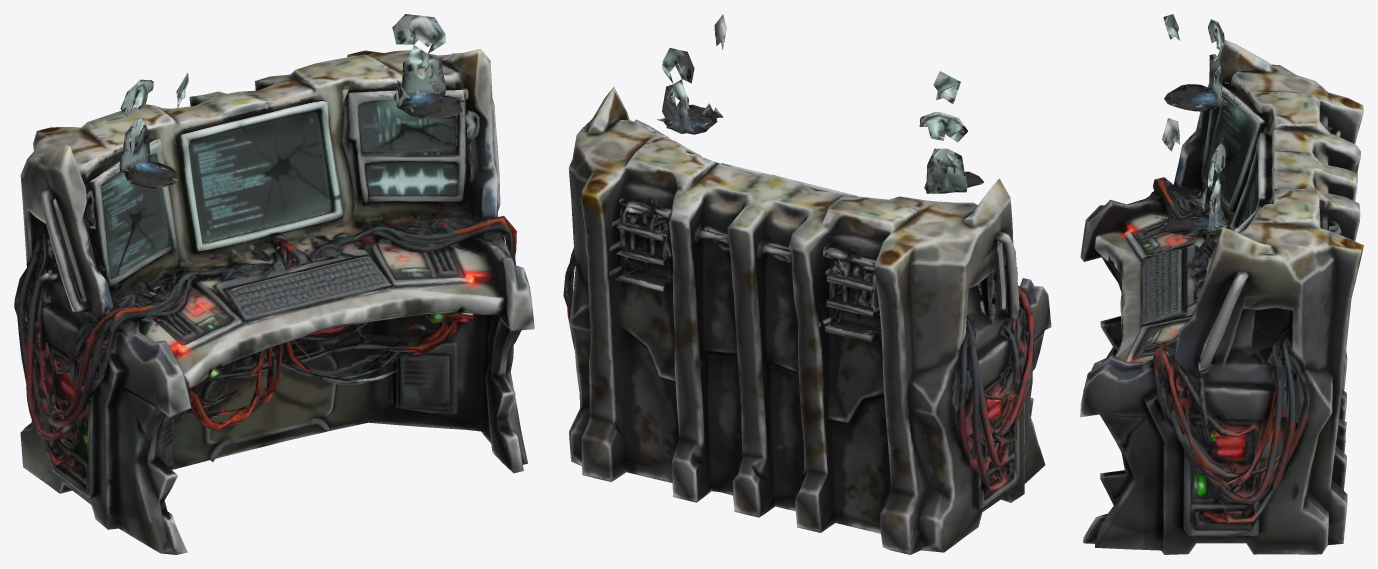
File: Hacking-Station.glb
The picture shows the model from 3 angles, left to right: view 1: azimuth 30°, elevation 25°; view 2: azimuth 150°, elevation 25°; view 3: azimuth 270°, elevation 25°; orthographic projection. The views are drawn at different scales.
Parts seen in each view (by area): view 1: Mesh1.0; view 2: Mesh1.0; view 3: Mesh1.0.
Part boxes in pixels (left/top/right/bottom): Mesh1.0: left=14, top=14, right=534, bottom=554; Mesh1.0: left=563, top=14, right=1051, bottom=554; Mesh1.0: left=1080, top=14, right=1363, bottom=554.
Size of the model in its own units: 1.91 by 1.77 by 1.13.
Materials: 1 (1 with a texture image).
